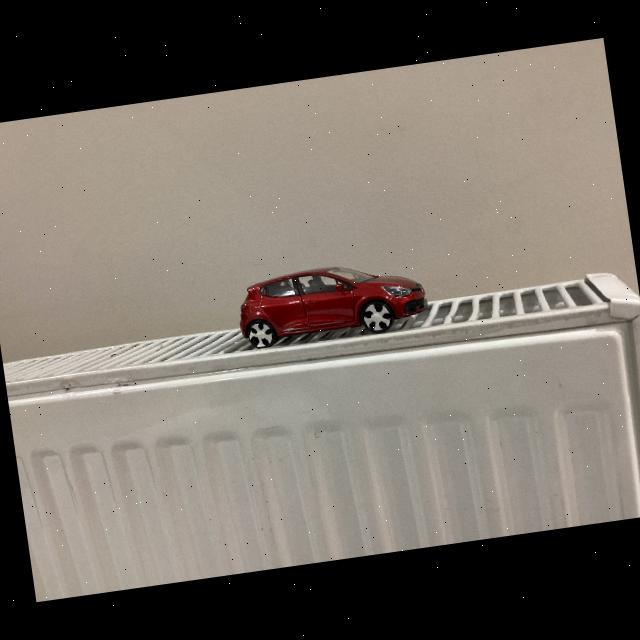Yanlis_Jant: (362, 302, 393, 334), (247, 322, 274, 349)
